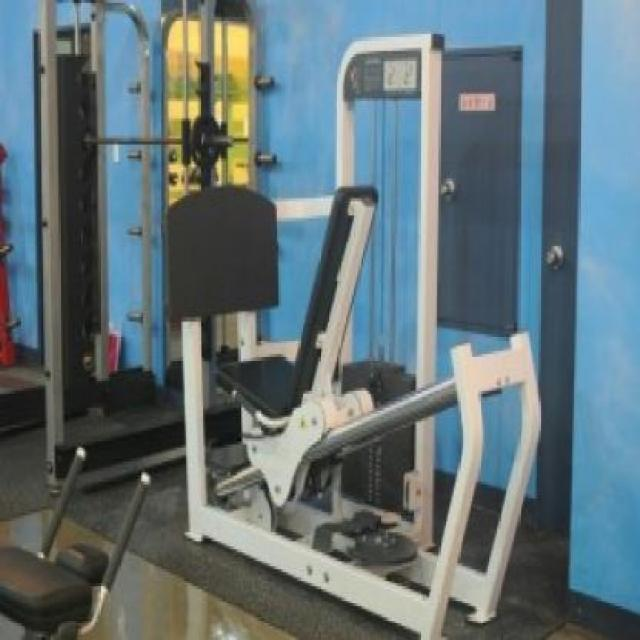leg press: (125, 20, 564, 640)
